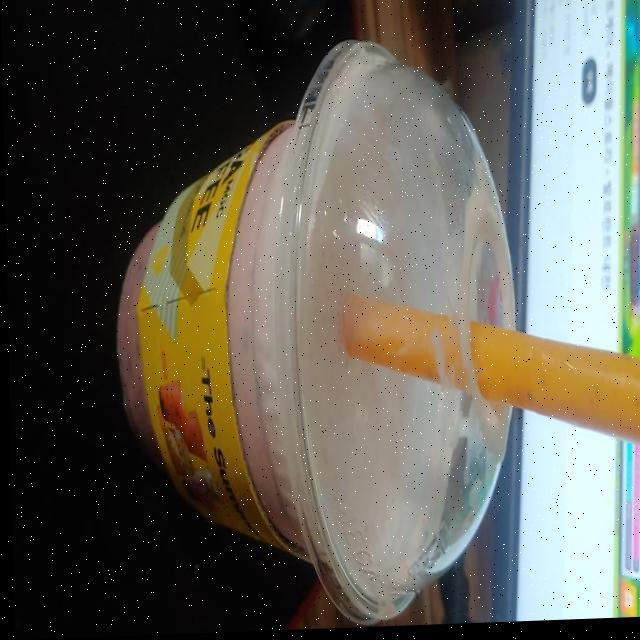cup: (74, 45, 549, 627)
